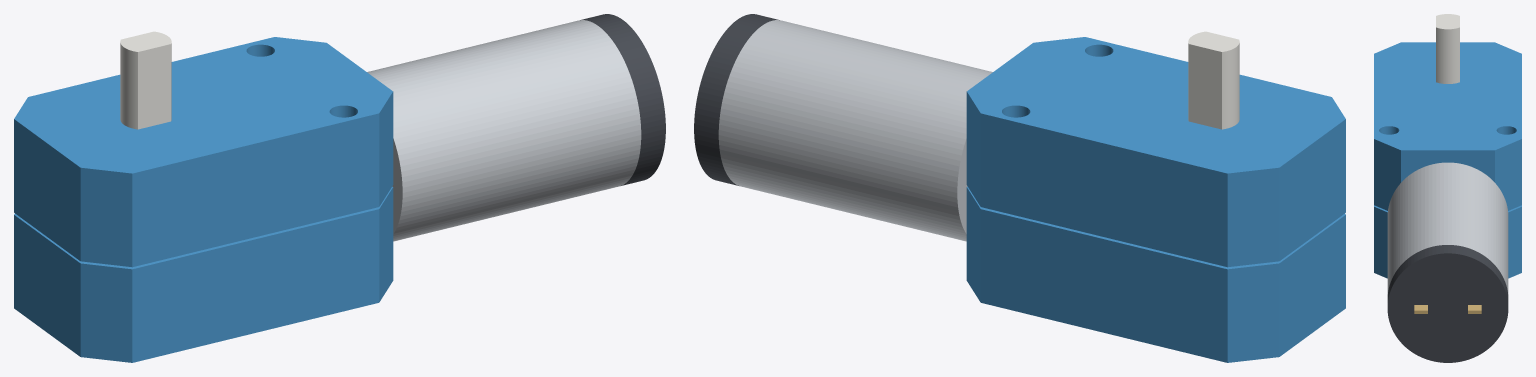
File: model_full.glb
3 renders of one model, left to right at view 1: azimuth 30°, elevation 25°; view 2: azimuth 150°, elevation 25°; view 3: azimuth 270°, elevation 25°, orthographic. The views are drawn at different scales.
Parts seen in each view (by area): view 1: housing_half_1, motor_can, housing_half_0, output_shaft, motor_end_cap; view 2: housing_half_1, motor_can, housing_half_0, output_shaft, motor_end_cap; view 3: housing_half_1, motor_end_cap, motor_can, housing_half_0, output_shaft.
Part boxes in pixels (bbox=[...]): housing_half_1: bbox=[14, 37, 393, 267]; motor_can: bbox=[367, 20, 641, 241]; housing_half_0: bbox=[14, 186, 393, 362]; output_shaft: bbox=[120, 31, 171, 129]; motor_end_cap: bbox=[580, 14, 665, 185]; housing_half_1: bbox=[966, 37, 1345, 267]; motor_can: bbox=[718, 20, 992, 241]; housing_half_0: bbox=[966, 186, 1345, 362]; output_shaft: bbox=[1188, 31, 1239, 129]; motor_end_cap: bbox=[694, 14, 779, 185]; housing_half_1: bbox=[1374, 42, 1521, 210]; motor_end_cap: bbox=[1387, 245, 1508, 362]; motor_can: bbox=[1387, 162, 1508, 293]; housing_half_0: bbox=[1374, 205, 1521, 278]; output_shaft: bbox=[1436, 14, 1459, 83].
Bounding box in the file's own units: 0.072 × 0.031 × 0.022.
